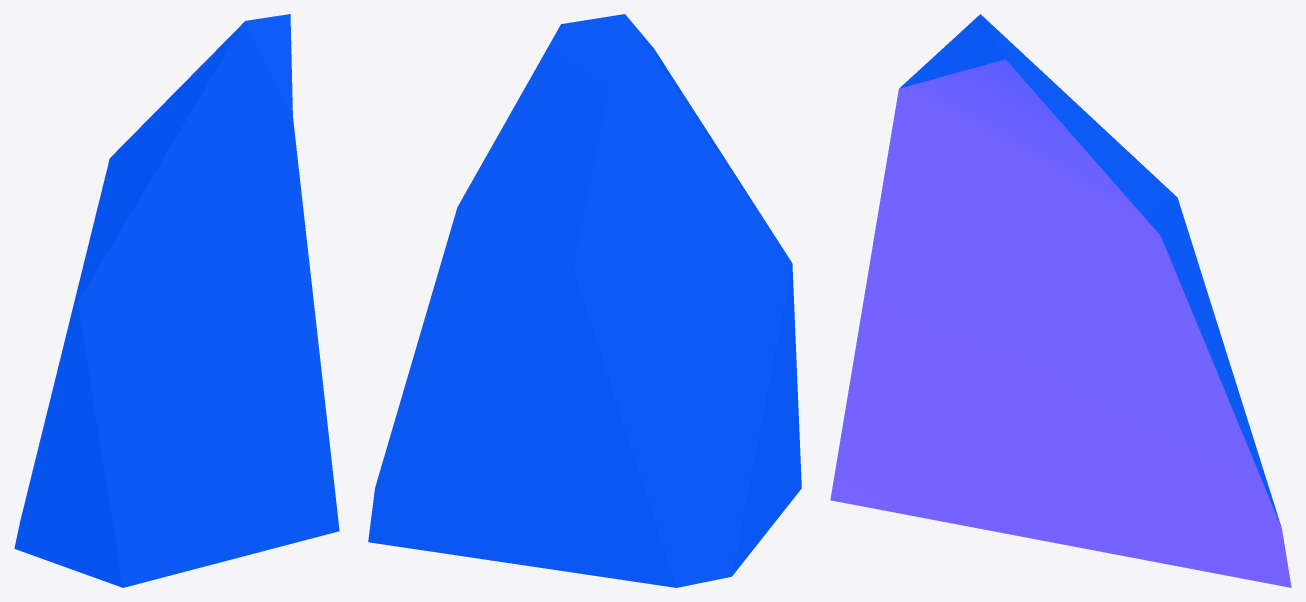
File: p_mesh_hammer_disconite_chunk02.fbx
3 renders of one model, left to right at view 1: azimuth 30°, elevation 25°; view 2: azimuth 150°, elevation 25°; view 3: azimuth 270°, elevation 25°, orthographic. The views are drawn at different scales.
Visible parts, largest first — view 1: p_mesh_hammer_disconite_chunk02; view 2: p_mesh_hammer_disconite_chunk02; view 3: p_mesh_hammer_disconite_chunk02.
Boxes of the visible parts, <box> form: p_mesh_hammer_disconite_chunk02: <box>14,14,339,587</box>; p_mesh_hammer_disconite_chunk02: <box>368,14,801,587</box>; p_mesh_hammer_disconite_chunk02: <box>830,14,1291,587</box>.
Size of the model in its own units: 0.2733 by 0.455 by 0.35.
